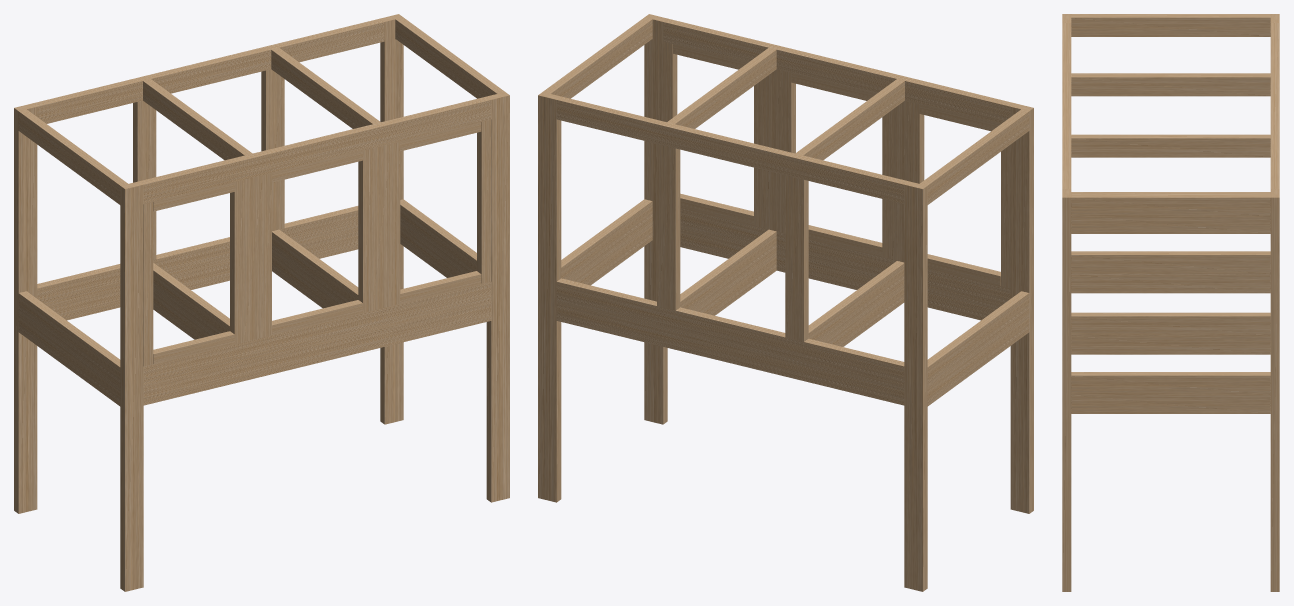
File: rabbit-house.glb
The picture shows the model from 3 angles, left to right: view 1: azimuth 30°, elevation 25°; view 2: azimuth 150°, elevation 25°; view 3: azimuth 270°, elevation 25°; orthographic projection. The views are drawn at different scales.
Parts seen in each view (by area): view 1: Board.004, Board.002, Board.006, Board.003, Board.018, Board.025, Board.005, Board.017, Board.001, Board.026, Board.008, Board.007 (+26 smaller); view 2: Board.003, Board.001, Board.018, Board.017, Board.004, Board.006, Board.026, Board.002, Board.005, Board.025, Board.019, Board.020 (+26 smaller); view 3: Board.009, Board.012, Board.014, Board.015, Board.016, Board.010, Board.013, Board.001, Board.002, Board.029, Board.028, Board.030 (+4 smaller).
Boxes of the visible parts, <box> form: Board.004: <box>120,181,143,591</box>; Board.002: <box>486,92,509,502</box>; Board.006: <box>139,96,491,203</box>; Board.003: <box>14,103,37,513</box>; Board.018: <box>33,18,384,123</box>; Board.025: <box>143,301,491,405</box>; Board.005: <box>143,282,491,385</box>; Board.017: <box>37,206,358,305</box>; Board.001: <box>380,14,403,424</box>; Board.026: <box>47,230,358,320</box>; Board.008: <box>372,144,390,310</box>; Board.007: <box>244,175,262,341</box>; Board.003: <box>904,181,927,591</box>; Board.001: <box>538,92,561,502</box>; Board.018: <box>556,96,908,203</box>; Board.017: <box>556,278,904,385</box>; Board.004: <box>1010,103,1033,513</box>; Board.006: <box>663,18,1014,123</box>; Board.026: <box>556,301,904,405</box>; Board.002: <box>644,14,667,424</box>; Board.005: <box>680,208,1010,305</box>; Board.025: <box>680,227,1000,320</box>; Board.019: <box>785,175,808,341</box>; Board.020: <box>657,144,680,310</box>; Board.009: <box>1071,73,1270,96</box>; Board.012: <box>1071,312,1270,335</box>; Board.014: <box>1071,251,1270,274</box>; Board.015: <box>1071,134,1270,157</box>; Board.016: <box>1071,194,1270,216</box>; Board.010: <box>1071,14,1270,36</box>; Board.013: <box>1071,372,1270,394</box>; Board.001: <box>1270,189,1279,591</box>; Board.002: <box>1062,189,1071,591</box>; Board.029: <box>1071,335,1270,354</box>; Board.028: <box>1071,274,1270,293</box>; Board.030: <box>1071,395,1270,413</box>.
Bounding box in the file's own units: 1.83 × 1.83 × 0.9144.
Materials: 1 (1 with a texture image).
